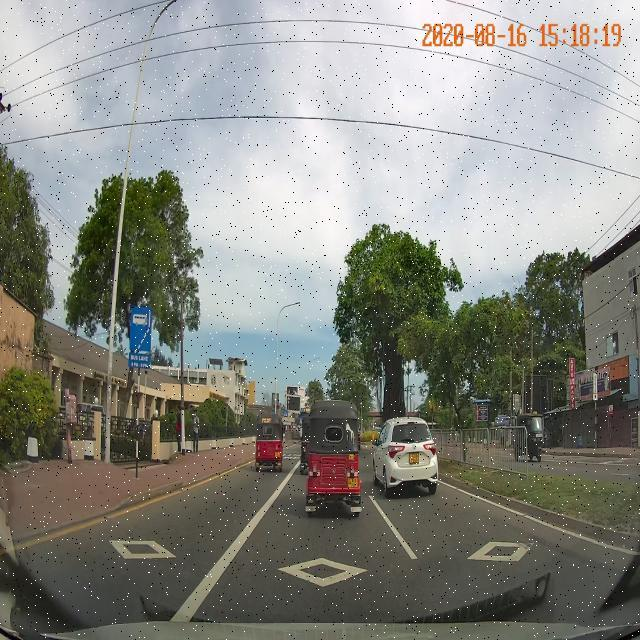diamond: (182, 533, 455, 598)
